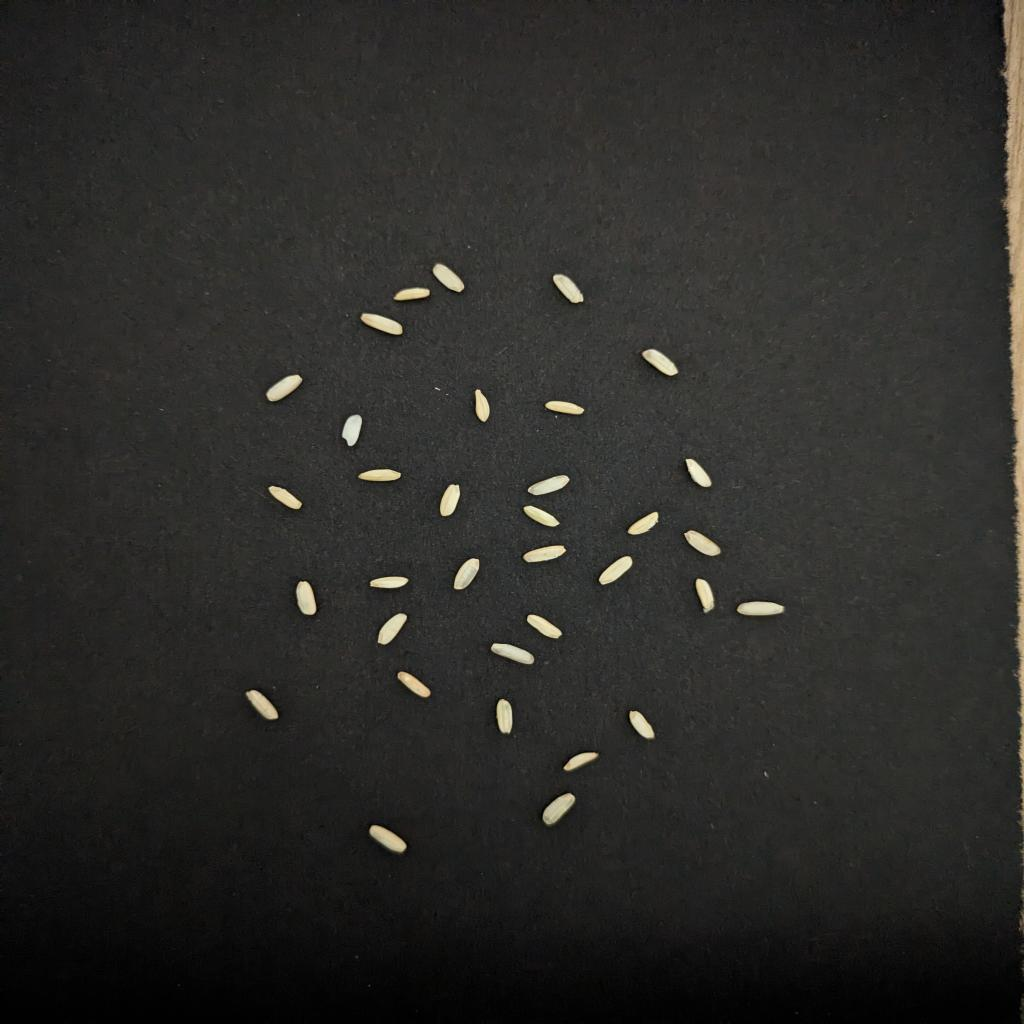chalky: (370, 824, 408, 854), (543, 792, 575, 826), (245, 690, 280, 720), (642, 348, 679, 376), (266, 374, 301, 402), (599, 556, 634, 584), (685, 530, 722, 556), (432, 264, 466, 292), (360, 314, 402, 336), (397, 672, 432, 698), (378, 614, 408, 644), (490, 644, 535, 664), (554, 274, 583, 304), (527, 476, 570, 496), (527, 614, 562, 638), (453, 558, 479, 590), (685, 458, 711, 488), (629, 710, 655, 740), (269, 486, 301, 510), (296, 580, 317, 616), (522, 506, 559, 526), (439, 484, 461, 516), (522, 546, 565, 562), (495, 698, 514, 734), (565, 752, 599, 772), (341, 414, 362, 446), (695, 578, 714, 612), (629, 512, 658, 534), (738, 602, 783, 616), (360, 468, 402, 482), (546, 400, 583, 414), (474, 390, 490, 422), (394, 288, 429, 302), (370, 576, 408, 588)
